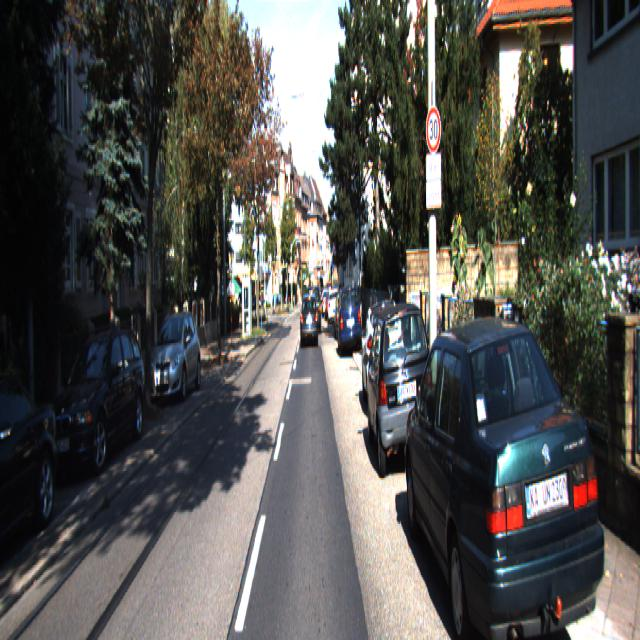Car: (402, 306, 614, 638), (39, 322, 148, 487), (0, 359, 63, 582), (366, 297, 434, 485), (147, 311, 202, 408), (337, 282, 362, 360), (300, 293, 318, 349), (306, 285, 322, 338), (328, 288, 340, 325)
